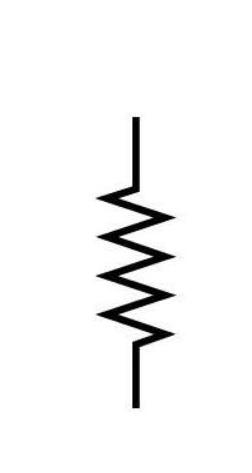resistor: (84, 154, 184, 364)
